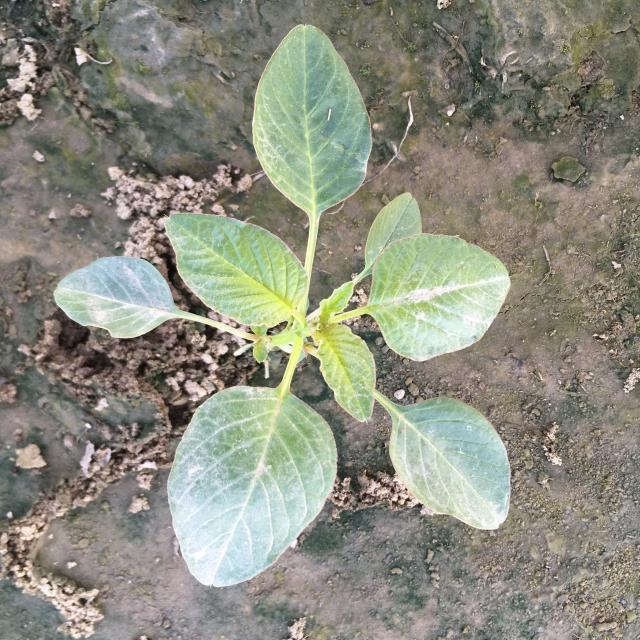PalmerAmaranth: (53, 24, 511, 588)
